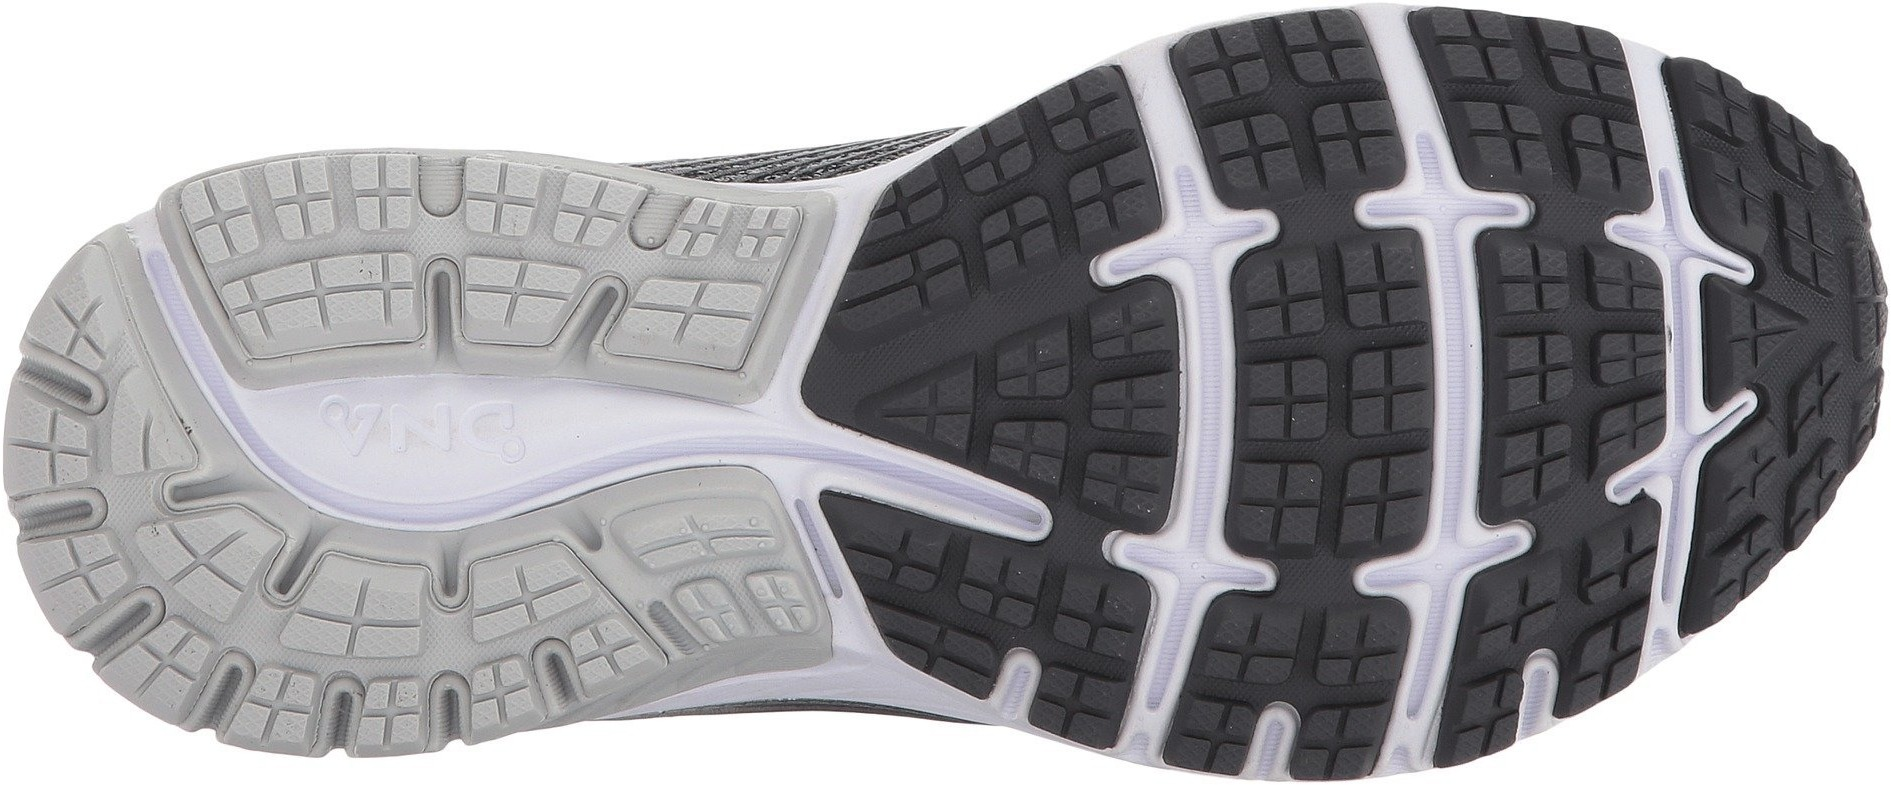quad: (178, 156, 431, 379), (1164, 582, 1416, 777), (1231, 232, 1439, 439), (232, 553, 453, 746), (1475, 240, 1665, 420), (991, 327, 1170, 494), (883, 519, 1002, 657), (960, 166, 1088, 292), (1697, 276, 1814, 409)
ribbon: (1087, 474, 1288, 654), (663, 356, 845, 529), (1343, 480, 1540, 638), (1354, 113, 1530, 285), (1110, 154, 1288, 322)
text: (380, 397, 459, 470), (314, 388, 388, 464), (457, 396, 532, 465)
triangle: (845, 346, 979, 479), (1697, 276, 1814, 409)
